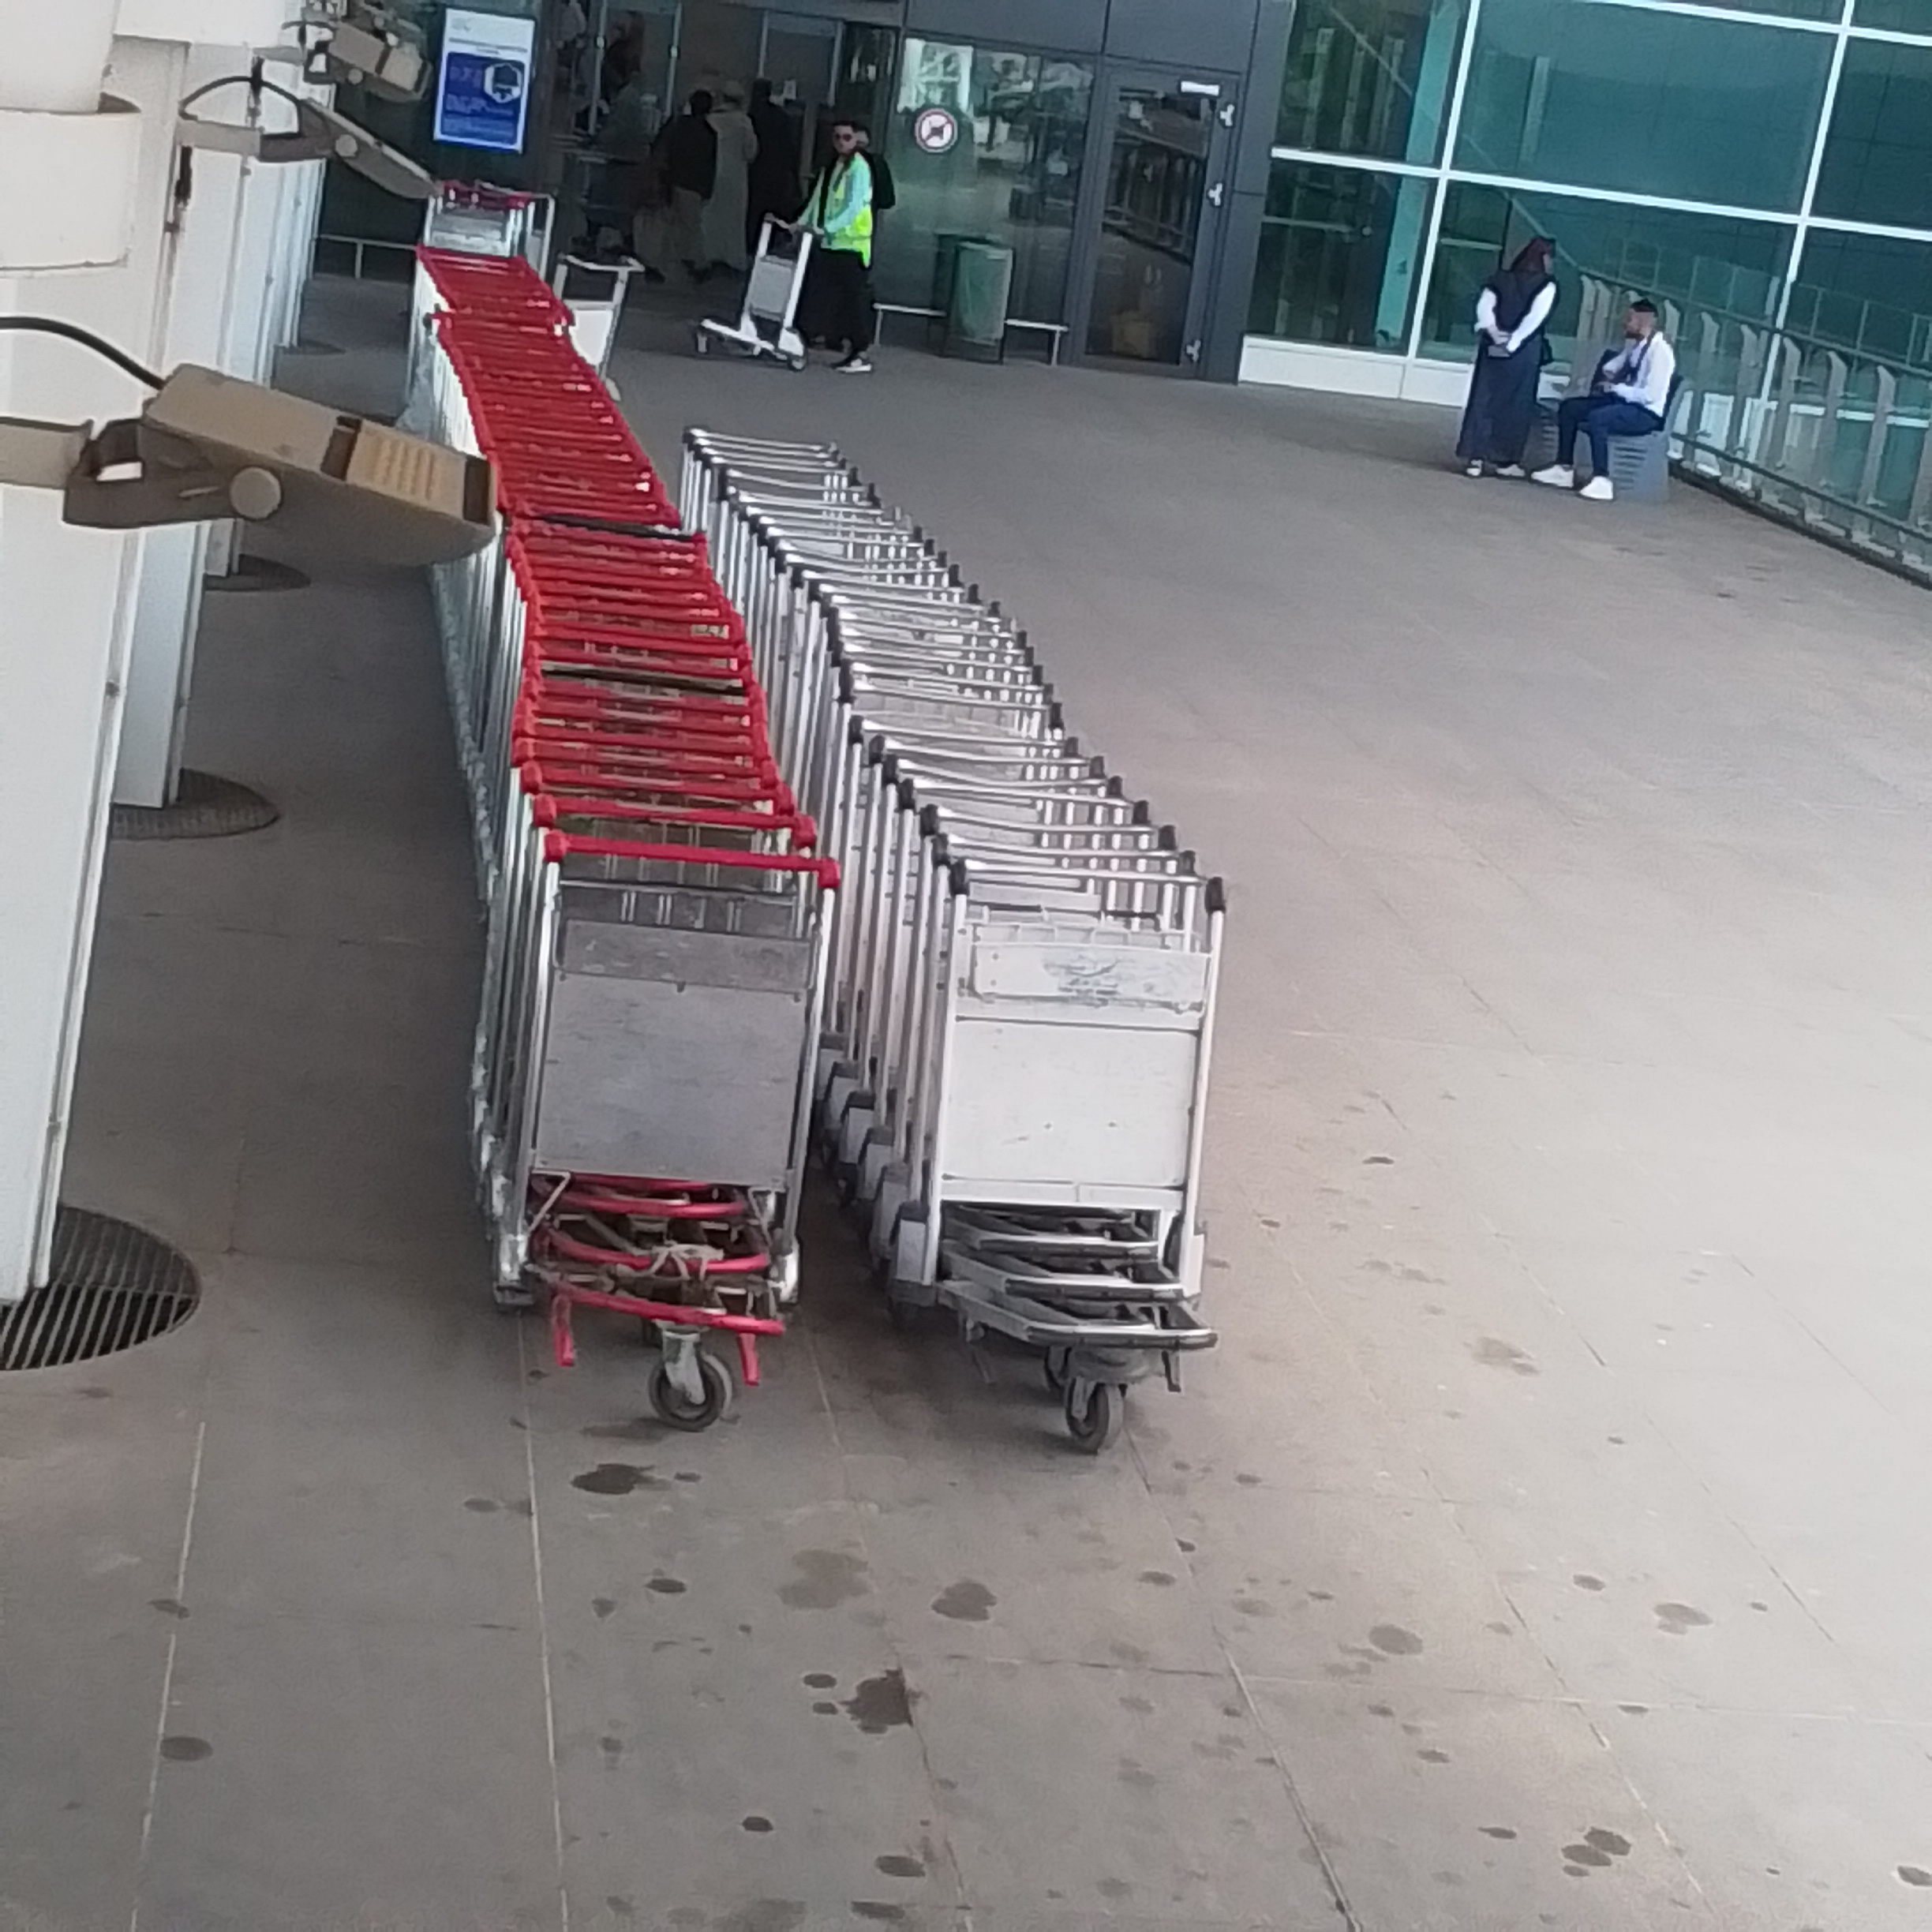airport-trolley: (511, 839, 824, 1405), (918, 849, 1242, 1380), (943, 855, 984, 879)
